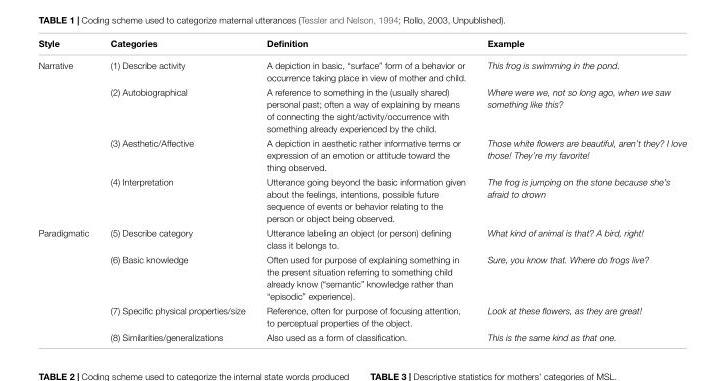table: (37, 37, 686, 341)
table column: (255, 37, 476, 341), (476, 37, 686, 341), (99, 37, 255, 341), (37, 37, 99, 341)
table column header: (37, 37, 686, 53)
table row: (37, 84, 686, 135), (37, 173, 686, 224), (37, 251, 686, 302), (37, 135, 686, 173), (37, 53, 686, 84), (37, 224, 686, 251), (37, 302, 686, 329), (37, 37, 686, 53), (37, 329, 686, 341)
table spanning cell: (37, 53, 99, 224), (37, 224, 99, 341)
